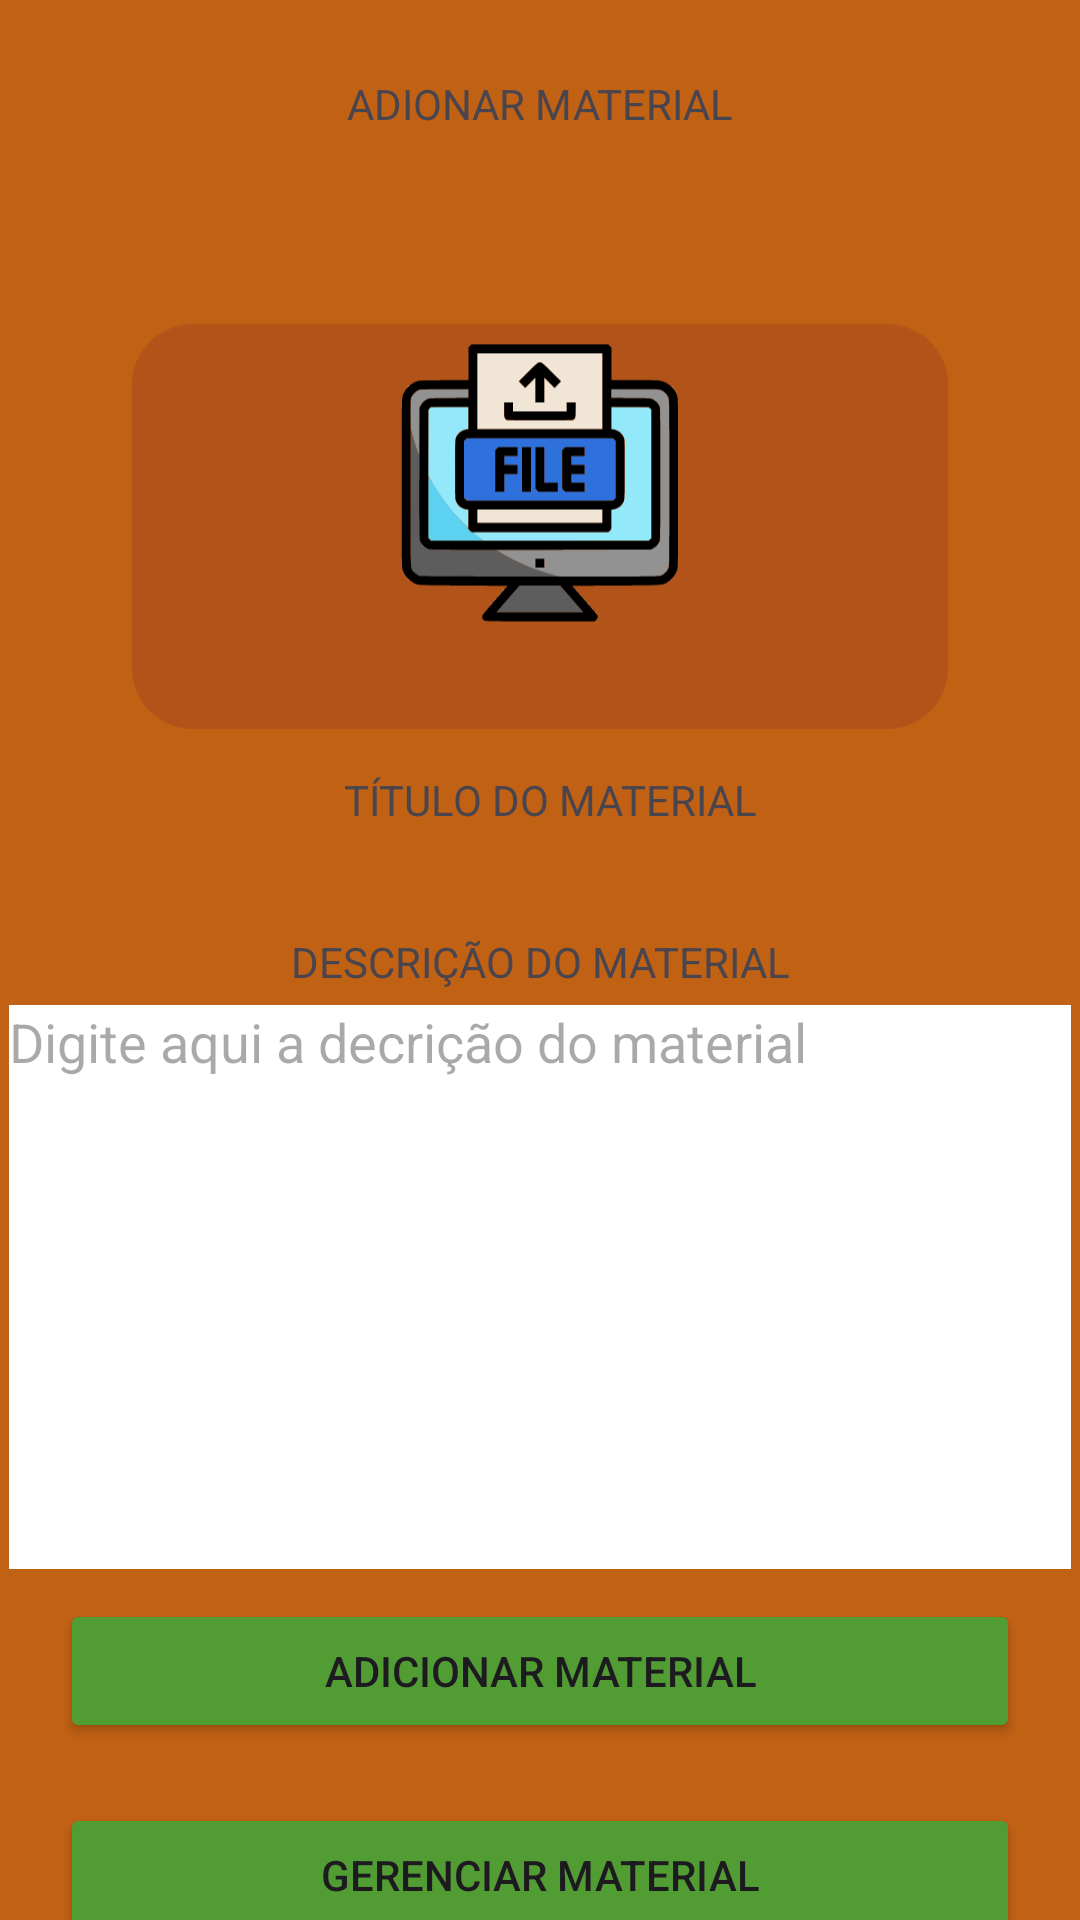

Named icons in this screenshot (1080 × 1920) and their centers, (x,y):
enviar: (540,483)
